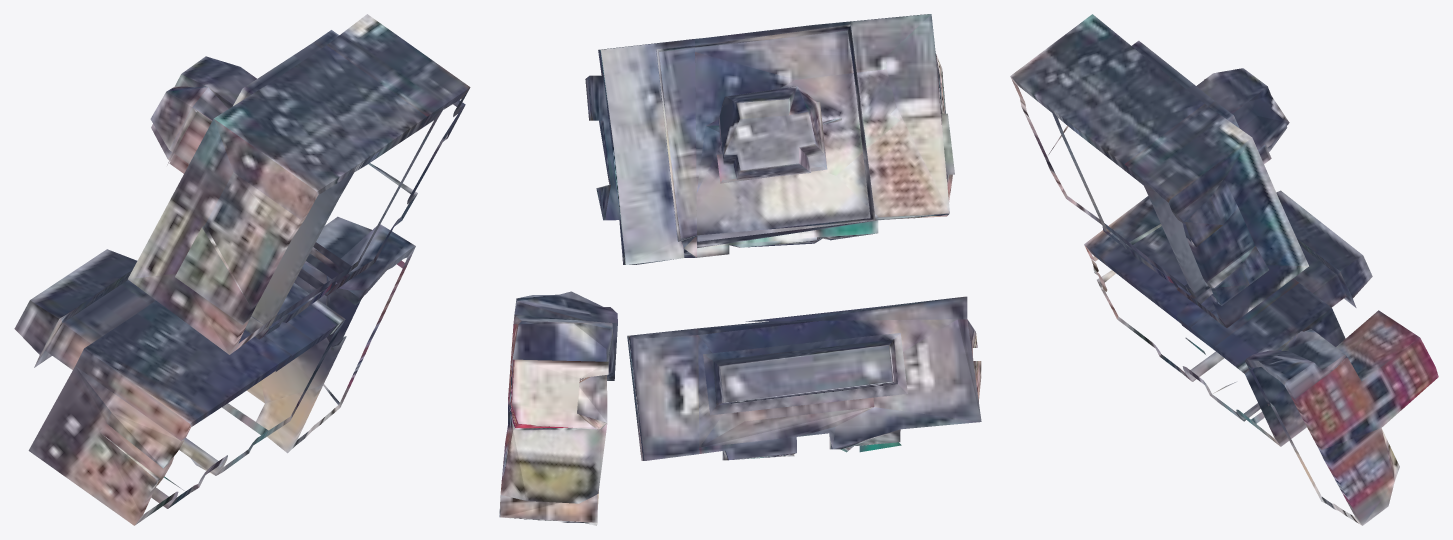
3 renders of one model, left to right at view 1: azimuth 30°, elevation 25°; view 2: azimuth 150°, elevation 25°; view 3: azimuth 270°, elevation 25°, orthographic. The views are drawn at different scales.
Bounding box in the file's own units: 45.9 × 48.9 × 47.23.
Materials: 1 (1 with a texture image).
